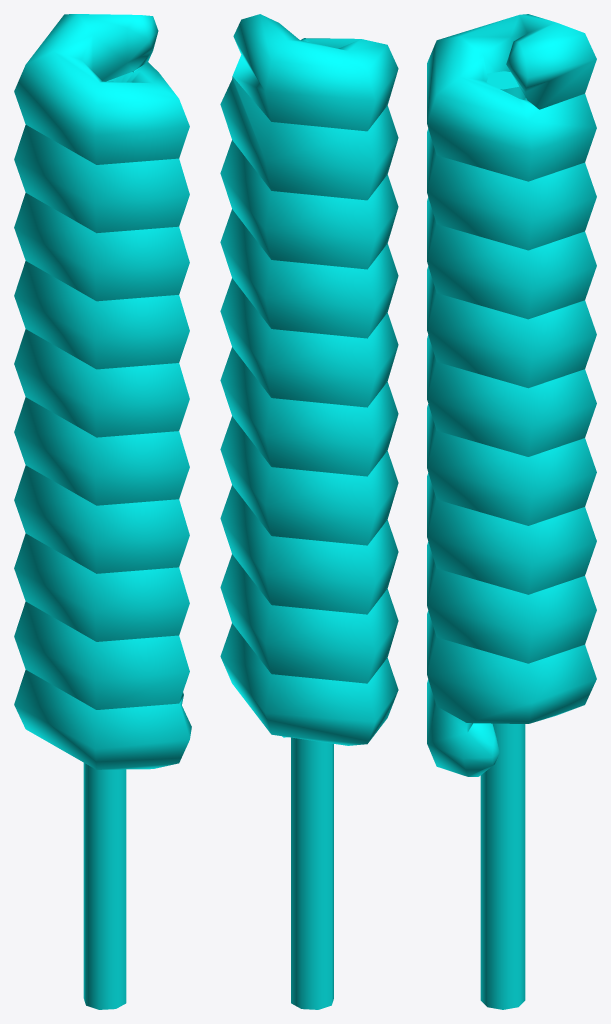
File: Piruleta LP 1.fbx
The picture shows the model from 3 angles, left to right: view 1: azimuth 30°, elevation 25°; view 2: azimuth 150°, elevation 25°; view 3: azimuth 270°, elevation 25°; orthographic projection.
Parts seen in each view (by area): view 1: Piruleta LP 003; view 2: Piruleta LP 003; view 3: Piruleta LP 003.
Boxes of the visible parts, x1,y1,x2,y2 form: Piruleta LP 003: (14,14,191,1009); Piruleta LP 003: (220,14,398,1009); Piruleta LP 003: (427,14,596,1009).
Bounding box in the file's own units: 130 × 789 × 124.
